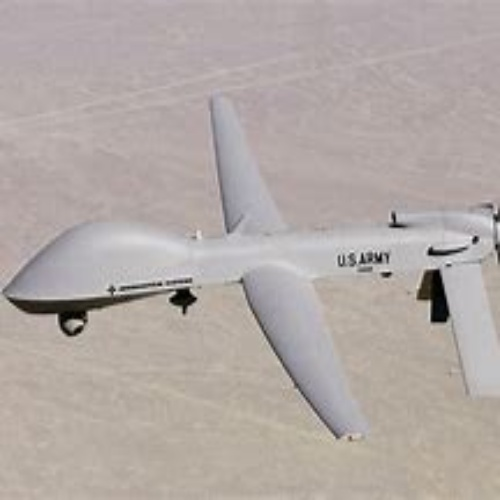uav: (4, 98, 499, 439)
